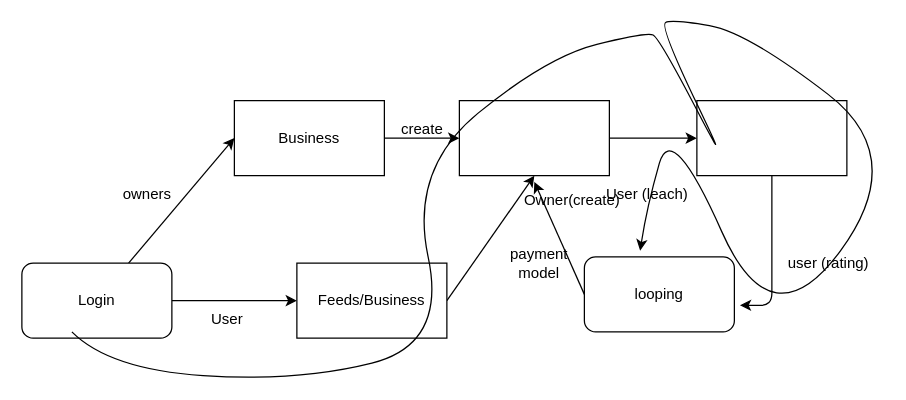
The diagram is 906 pixels wide and 400 high, and some of its shapes have lost their labels. The box of each missing label's shape, as (x1, y1, x2, y2) in pixels:
Business content: (696, 99, 847, 176)
Shop profile: (458, 99, 609, 176)
